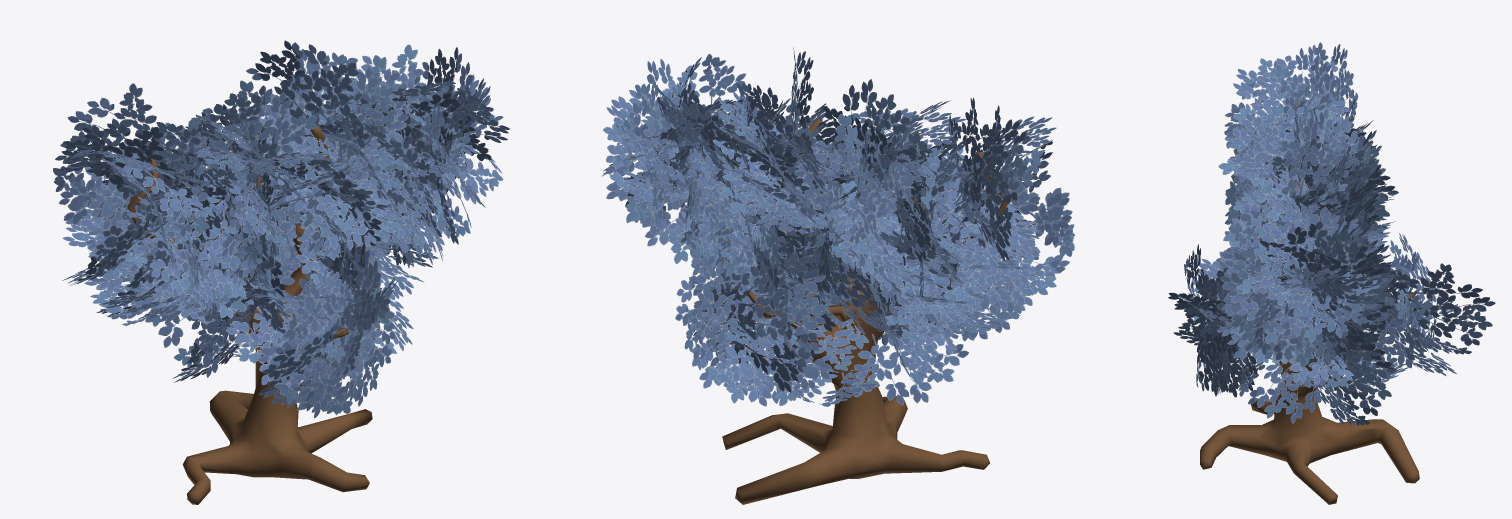
The model's file is arvoreazul.fbx.
3 views of the same model, side by side, from view 1: azimuth 30°, elevation 25°; view 2: azimuth 150°, elevation 25°; view 3: azimuth 270°, elevation 25° (orthographic). The views are drawn at different scales.
Parts seen in each view (by area): view 1: arvoreazul; view 2: arvoreazul; view 3: arvoreazul.
Boxes of the visible parts, x1,y1,x2,y2 form: arvoreazul: (53,40,509,504); arvoreazul: (602,47,1075,504); arvoreazul: (1168,42,1495,504).
Bounding box in the file's own units: 4573 × 3919 × 3223.
